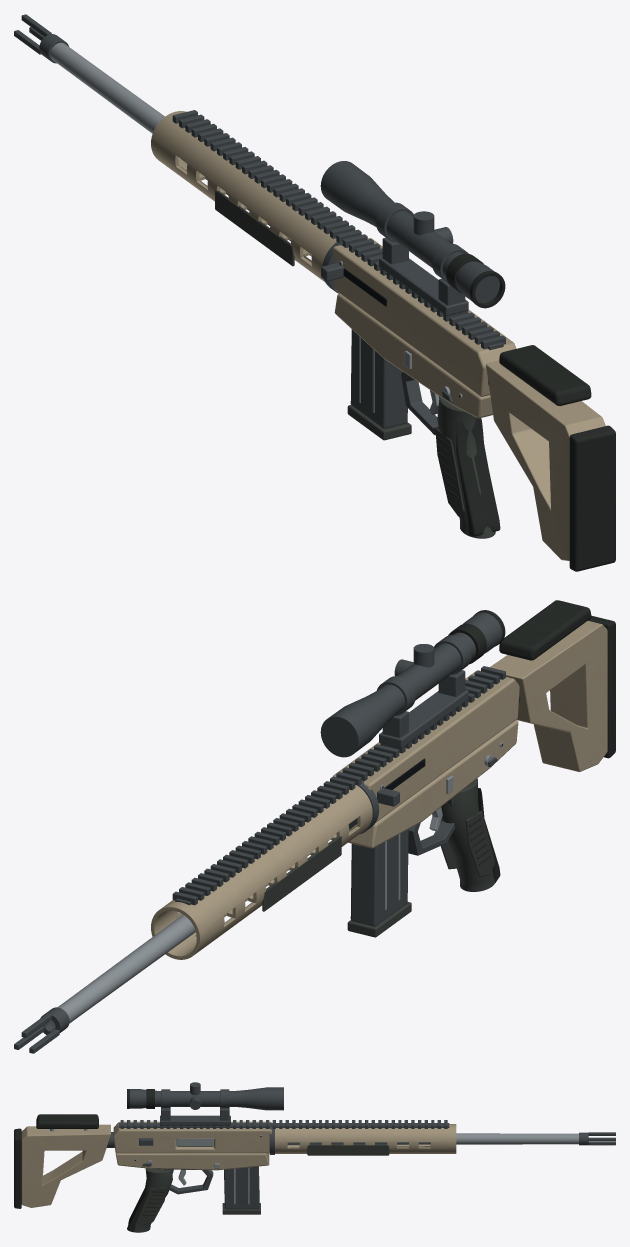
File: arbiter.glb
3 renders of one model, top to bottom at view 1: azimuth 30°, elevation 25°; view 2: azimuth 150°, elevation 25°; view 3: azimuth 270°, elevation 25°, orthographic. The views are drawn at different scales.
Parts seen in each view (by area): view 1: Arbiter_Static_Treated graphite, Arbiter_Static_Tan cerakote, Arbiter_Stock, Arbiter_Receiver, Arbiter_Buttpad, Arbiter_Scope, Arbiter_Magazine, Arbiter_Static_Dense rubber, Arbiter_CheekRiser, Arbiter_Static_Grip stipple, Arbiter_Barrel, Arbiter_Grip (+1 smaller); view 2: Arbiter_Static_Treated graphite, Arbiter_Static_Tan cerakote, Arbiter_Stock, Arbiter_Receiver, Arbiter_Scope, Arbiter_Magazine, Arbiter_Barrel, Arbiter_Static_Grip stipple, Arbiter_CheekRiser, Arbiter_Grip, Arbiter_Buttpad, Arbiter_MagazineFloorplate; view 3: Arbiter_Static_Tan cerakote, Arbiter_Static_Treated graphite, Arbiter_Stock, Arbiter_Receiver, Arbiter_Scope, Arbiter_Barrel, Arbiter_Static_Grip stipple, Arbiter_Magazine, Arbiter_CheekRiser, Arbiter_Grip, Arbiter_Buttpad, Arbiter_Static_Dense rubber (+2 smaller).
Boxes of the visible parts, x1,y1,x2,y2 form: Arbiter_Static_Treated graphite: (14,14,505,435); Arbiter_Static_Tan cerakote: (151,111,492,418); Arbiter_Stock: (486,360,605,560); Arbiter_Receiver: (333,238,516,396); Arbiter_Buttpad: (569,425,615,571); Arbiter_Scope: (320,161,499,303); Arbiter_Magazine: (350,329,407,428); Arbiter_Static_Dense rubber: (436,417,500,536); Arbiter_CheekRiser: (499,345,591,405); Arbiter_Static_Grip stipple: (215,190,487,516); Arbiter_Barrel: (50,42,164,133); Arbiter_Grip: (437,397,495,538); Arbiter_Static_Treated graphite: (14,635,520,1053); Arbiter_Static_Tan cerakote: (151,720,518,959); Arbiter_Stock: (490,621,607,771); Arbiter_Receiver: (333,670,519,822); Arbiter_Scope: (320,612,502,757); Arbiter_Magazine: (350,829,408,926); Arbiter_Barrel: (49,914,195,1027); Arbiter_Static_Grip stipple: (262,811,494,911); Arbiter_CheekRiser: (499,600,591,660); Arbiter_Grip: (440,778,494,891); Arbiter_Buttpad: (588,615,615,758); Arbiter_MagazineFloorplate: (347,902,411,937); Arbiter_Static_Tan cerakote: (115,1124,456,1170); Arbiter_Static_Treated graphite: (106,1089,615,1194); Arbiter_Stock: (21,1124,110,1207); Arbiter_Receiver: (113,1121,271,1153); Arbiter_Scope: (129,1087,283,1110); Arbiter_Barrel: (287,1133,578,1145); Arbiter_Static_Grip stipple: (137,1144,389,1225); Arbiter_Magazine: (224,1166,259,1209); Arbiter_CheekRiser: (36,1114,98,1128); Arbiter_Grip: (127,1168,172,1232); Arbiter_Buttpad: (14,1128,21,1208); Arbiter_Static_Dense rubber: (128,1177,164,1232).
Bounding box in the file's own units: 0.071 × 0.2924 × 1.1.
Materials: 8 (8 with a texture image).
